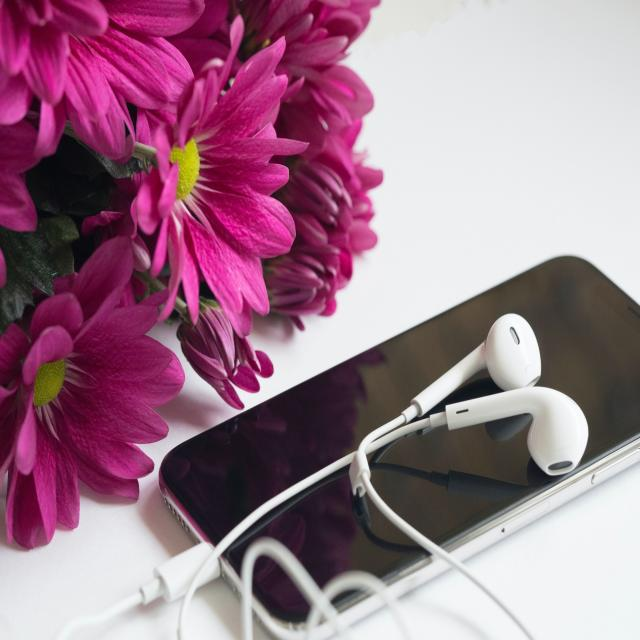headphones: (405, 290, 596, 492)
phone: (143, 220, 640, 600)
